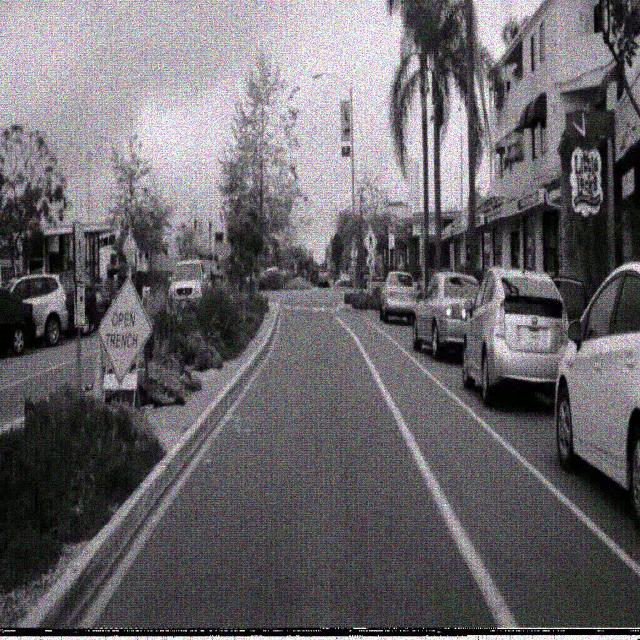pedestrianCrossing: (362, 228, 378, 256)
